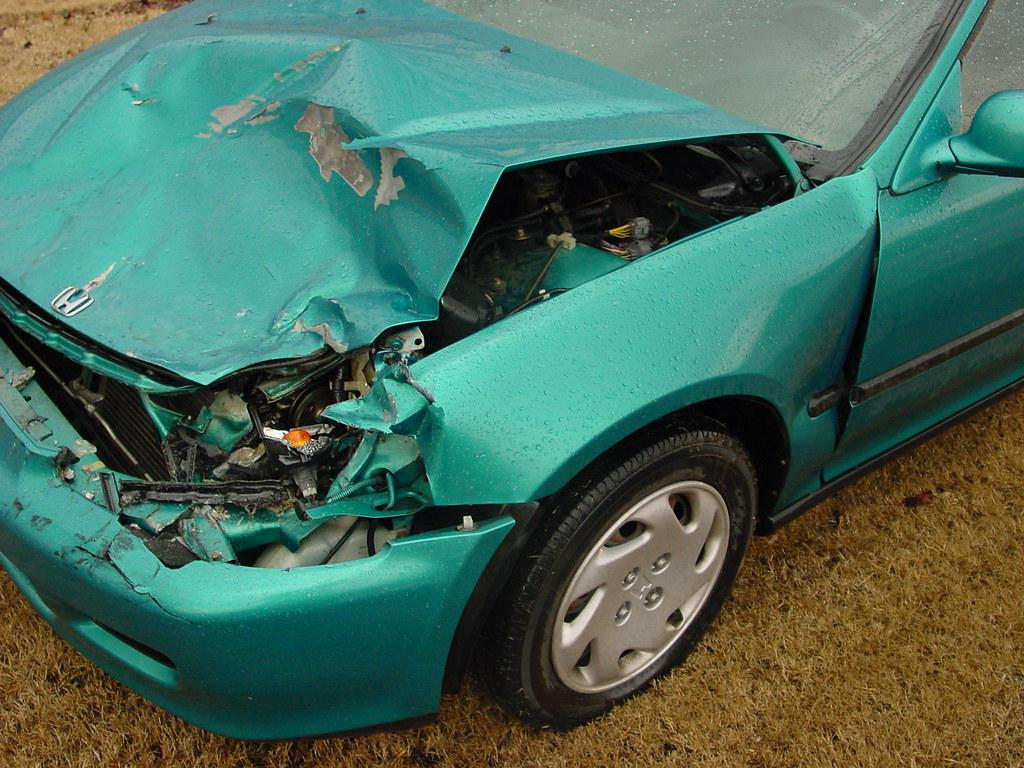Headlight-Damage: (175, 350, 464, 542)
bonnet-dent: (13, 0, 686, 368)
fender-dent: (693, 216, 874, 510)
front-bumper-dent: (27, 506, 421, 716)
